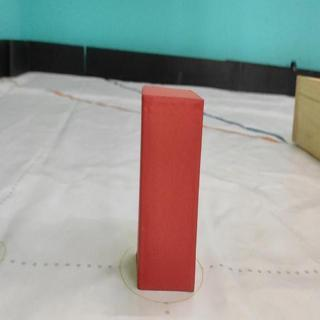redbox: (135, 86, 205, 295)
